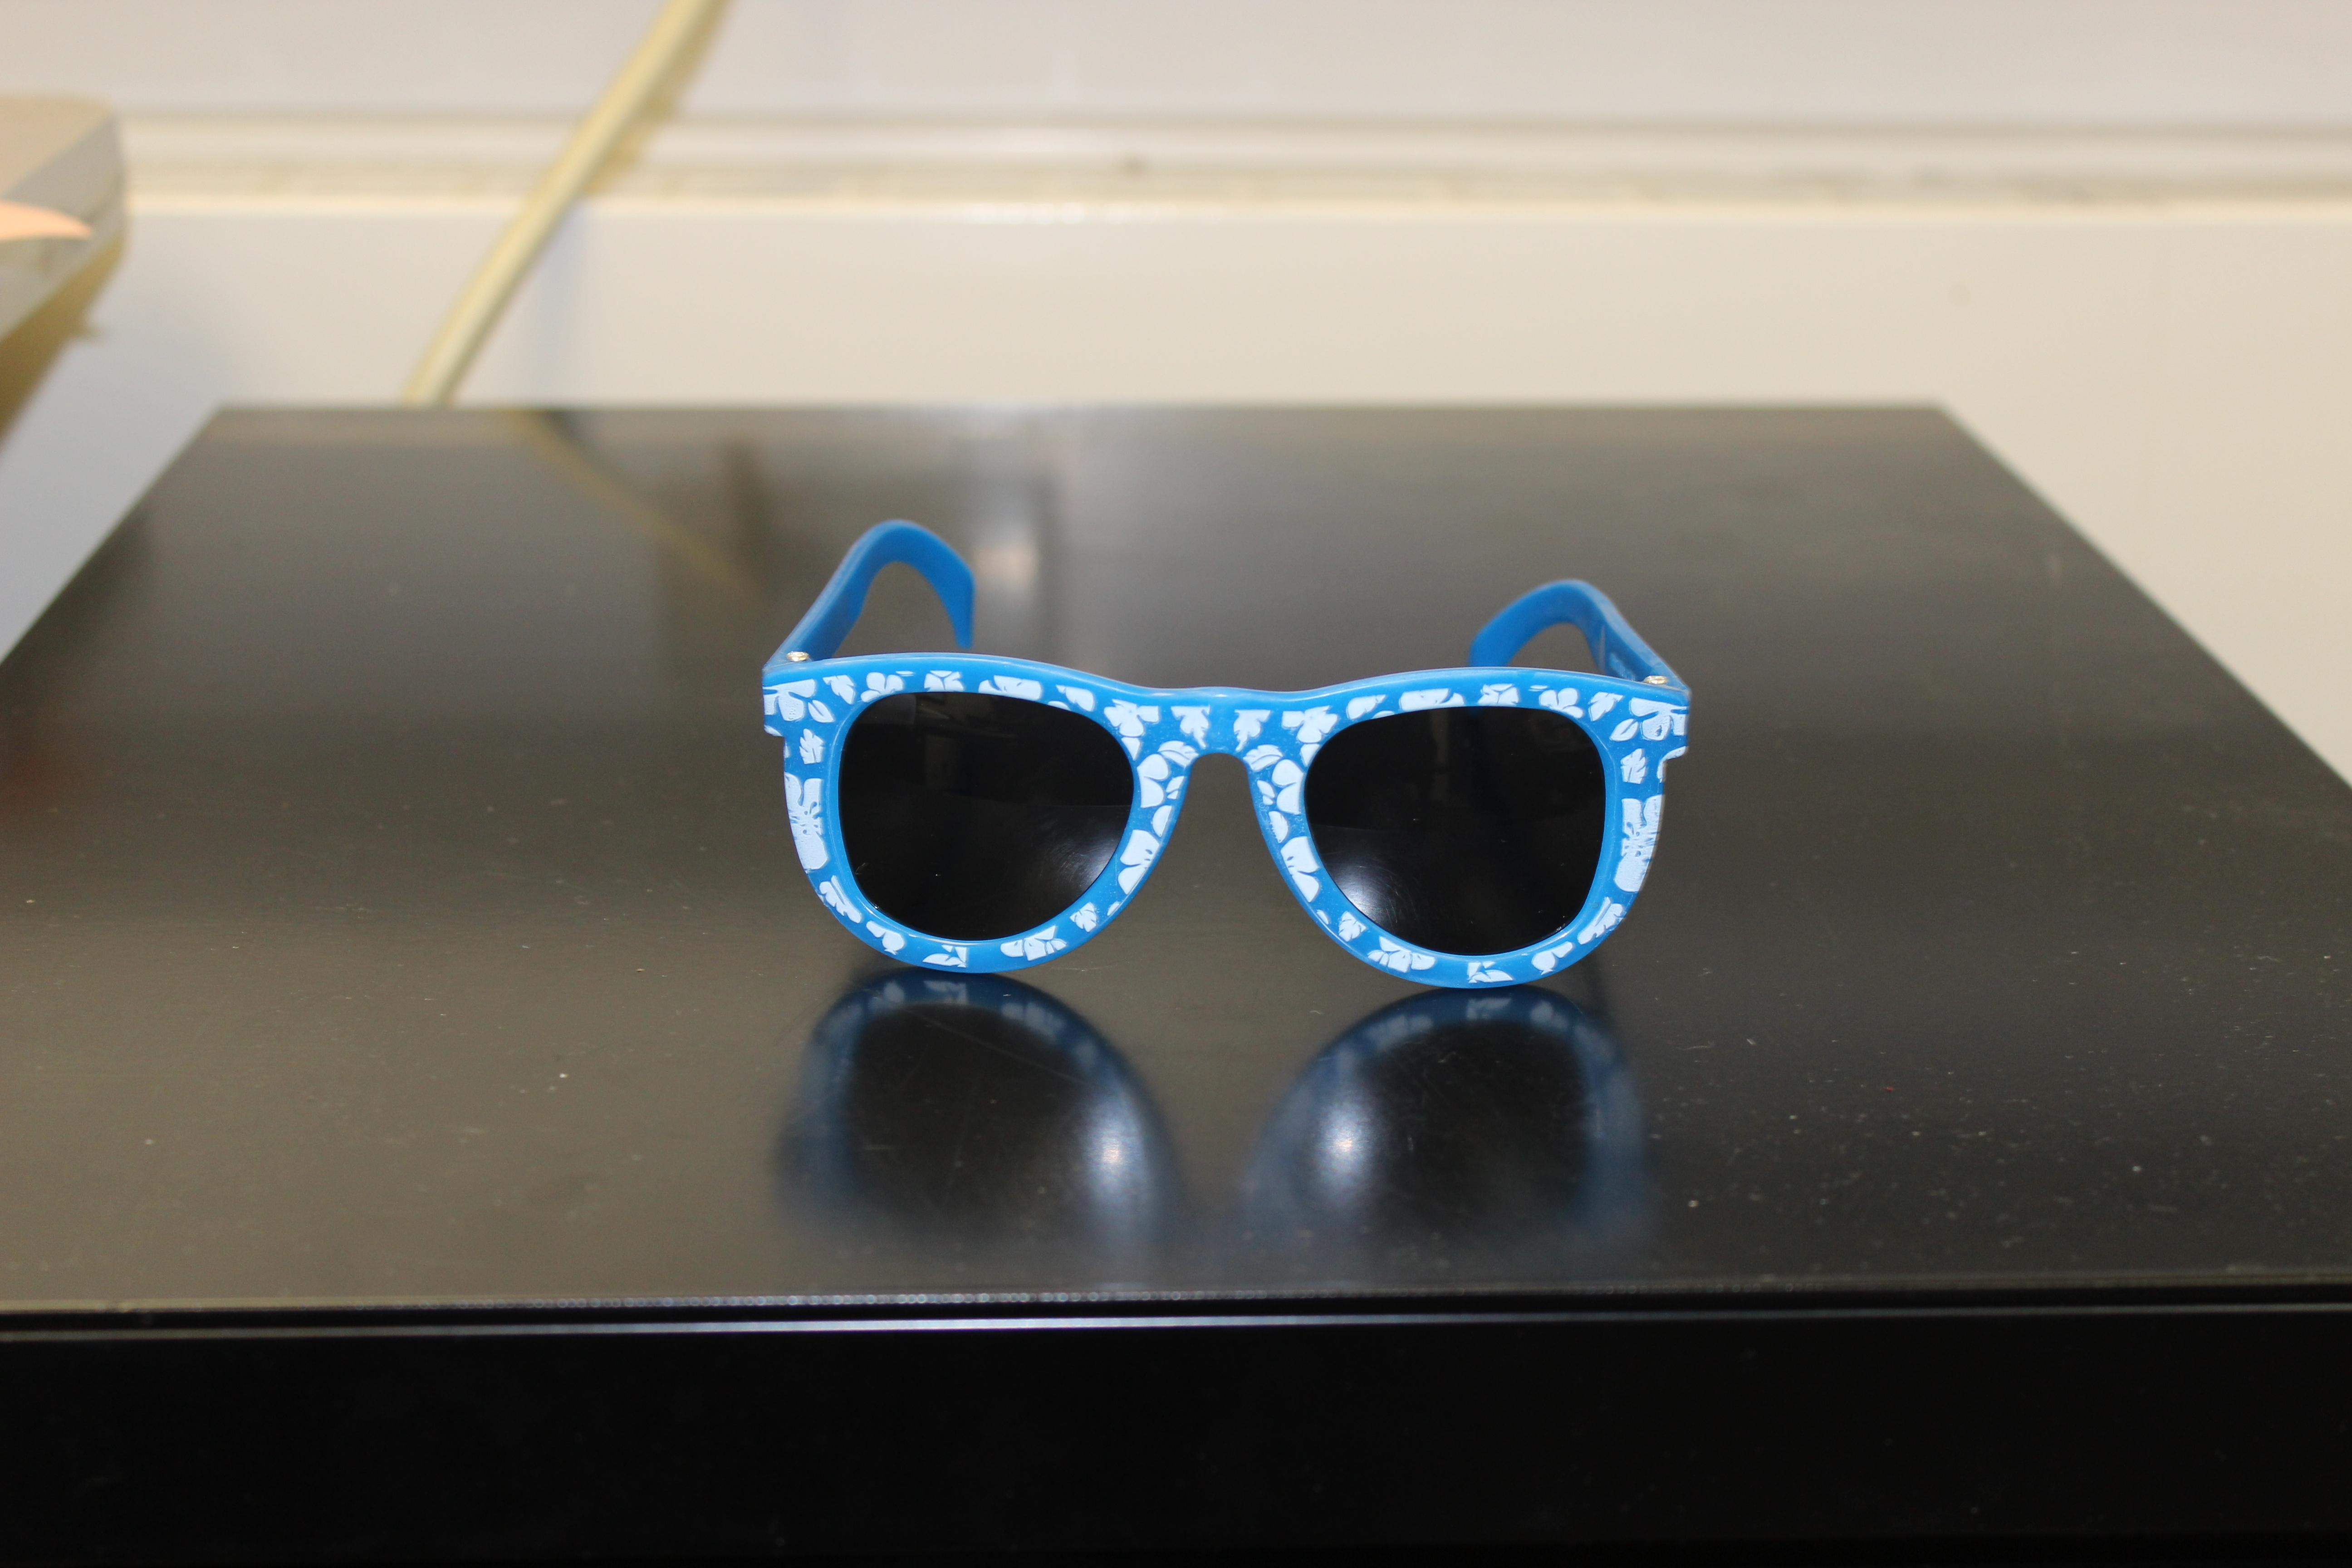blueSunglasses: (658, 478, 1767, 1045)
